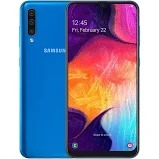bphone: (64, 1, 141, 157)
